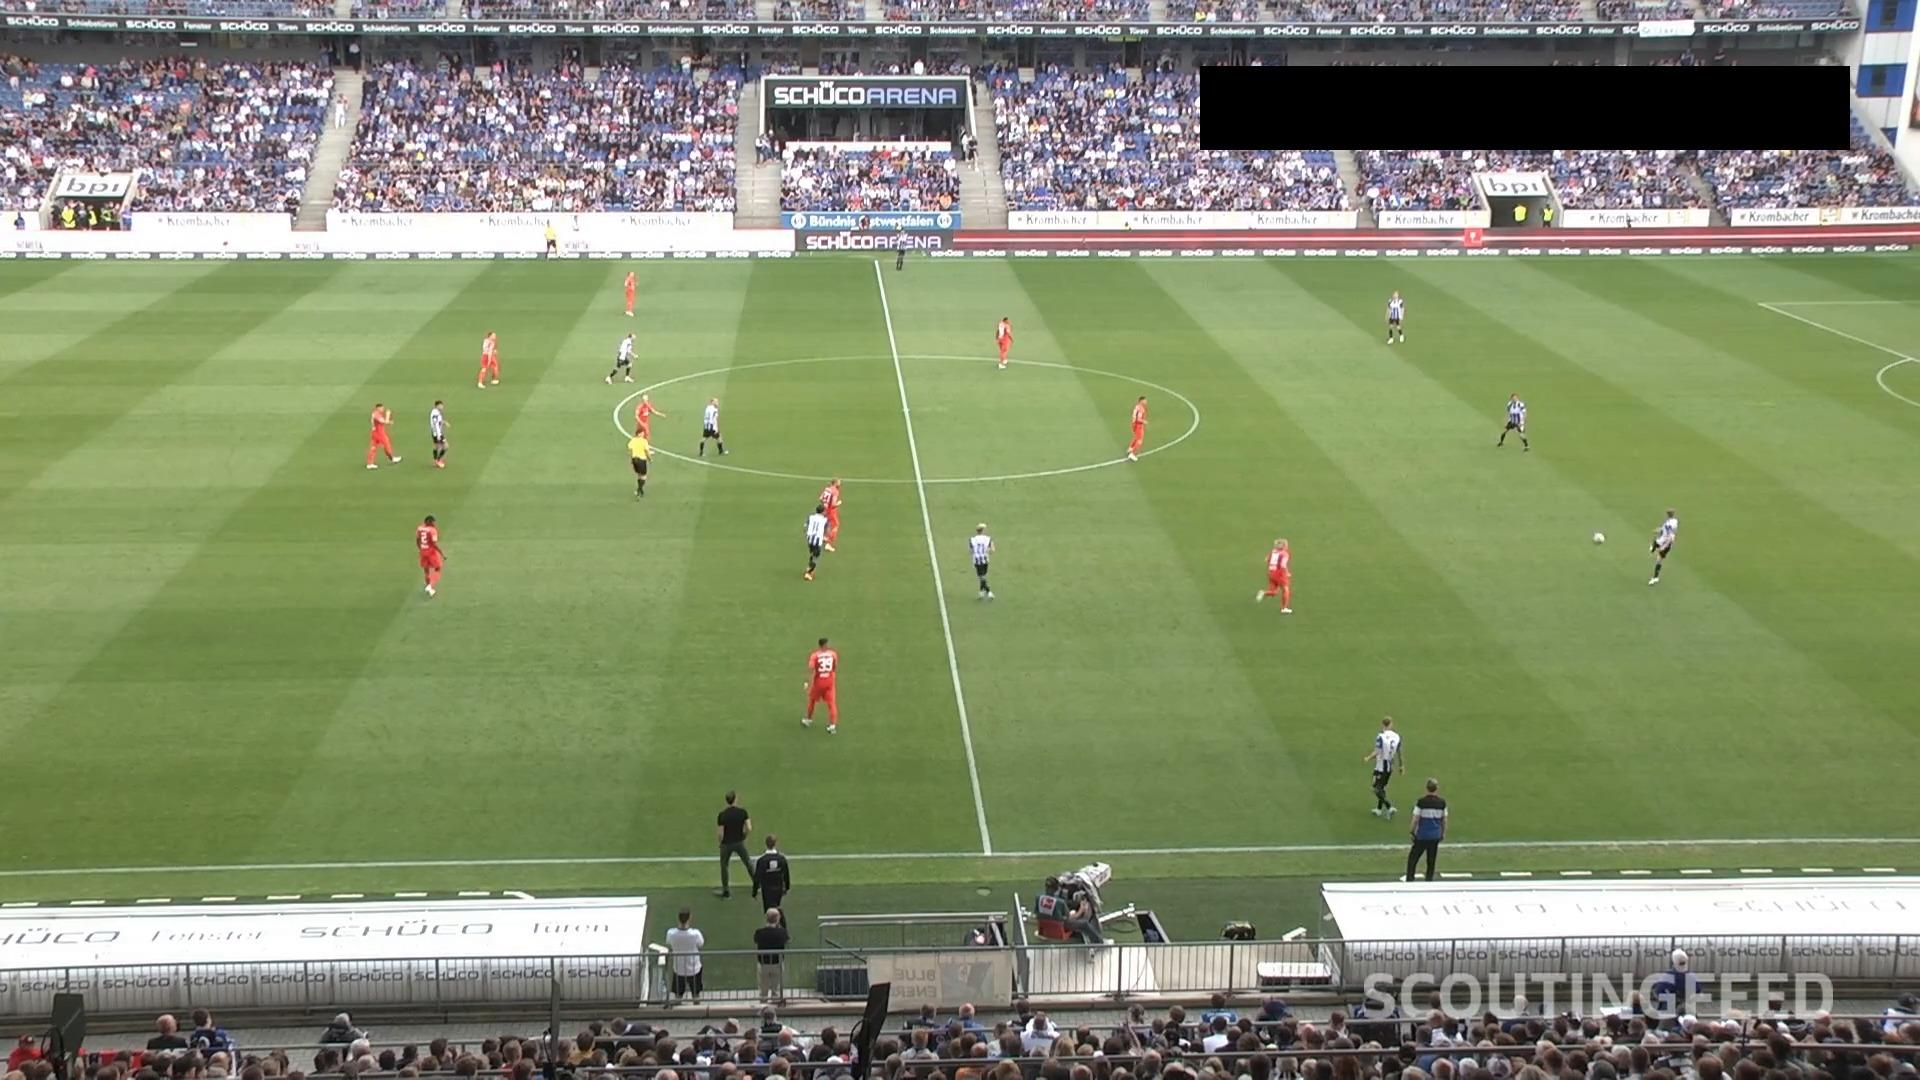ball: (1592, 530, 1606, 546)
